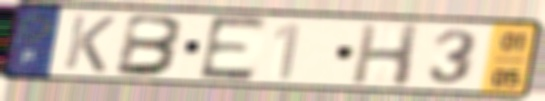1: (272, 21, 304, 81)
3: (426, 27, 482, 87)
B: (112, 12, 189, 78)
E: (195, 14, 271, 84)
H: (348, 22, 424, 89)
K: (60, 12, 119, 75)
